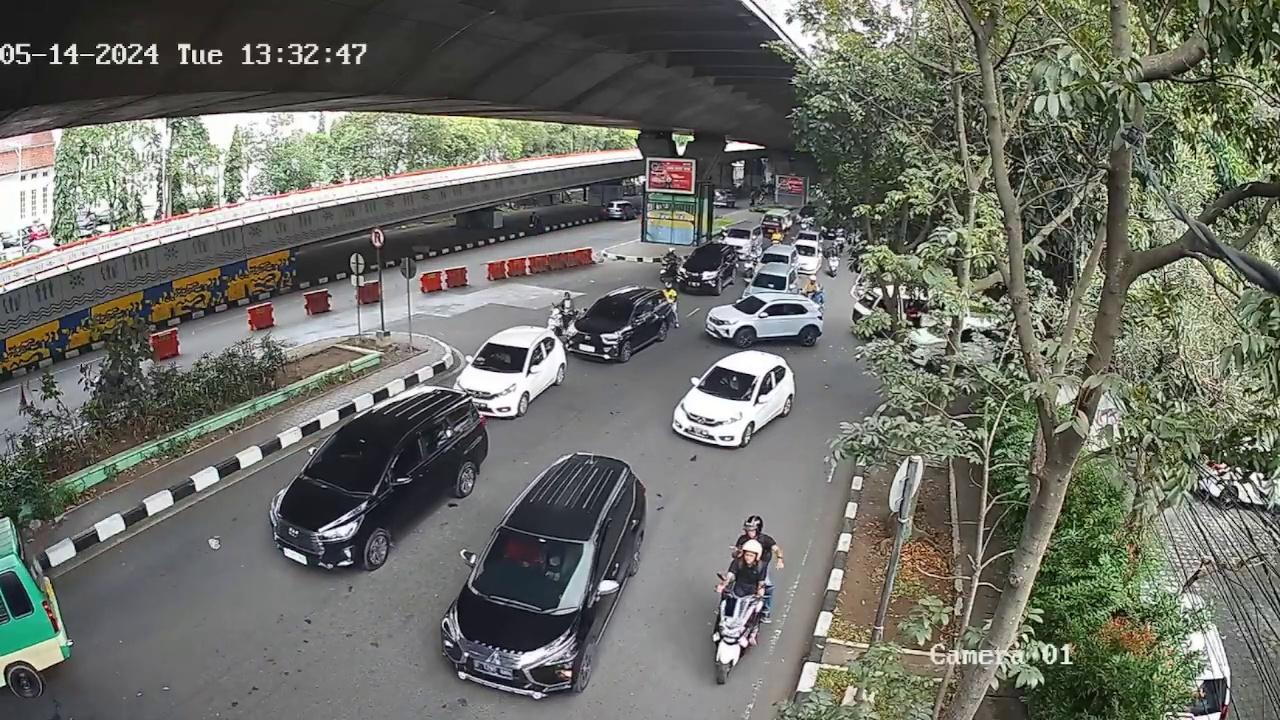tidak-pakai: (502, 539, 543, 574)
windshield: (480, 530, 586, 612), (305, 431, 397, 489), (693, 362, 762, 402), (476, 339, 528, 374), (589, 298, 634, 324)
